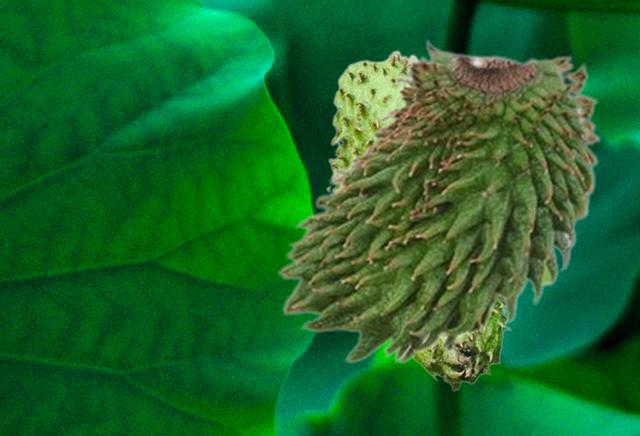guyabano: (276, 38, 601, 363), (325, 49, 512, 391)
